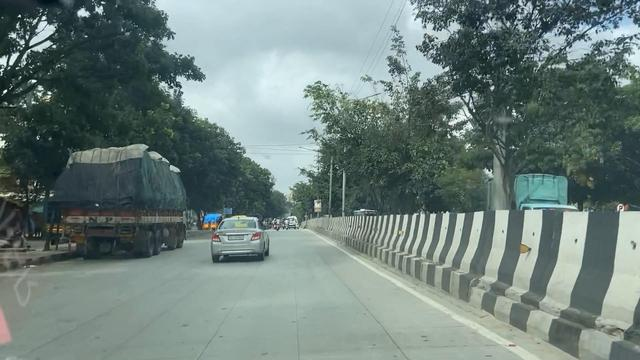HMV: (59, 140, 193, 262)
LMV: (209, 209, 274, 269)
